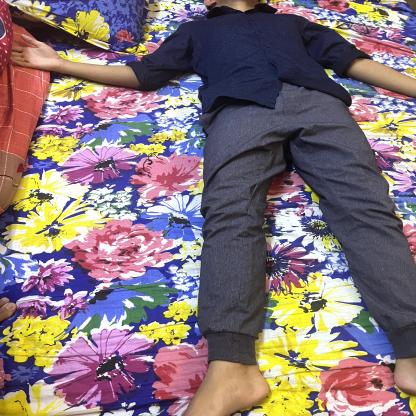hand: (148, 203, 300, 416), (7, 28, 145, 88)
